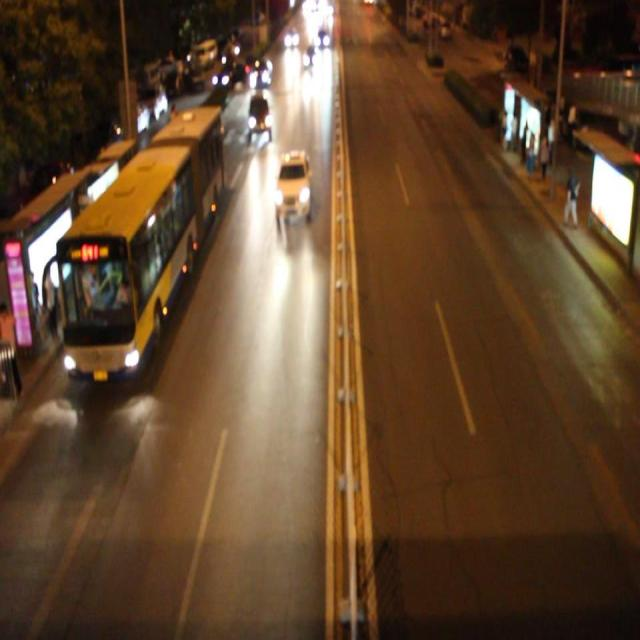car: (274, 150, 312, 222), (249, 56, 272, 92)
truck: (246, 91, 271, 138)
van: (54, 102, 219, 376)
